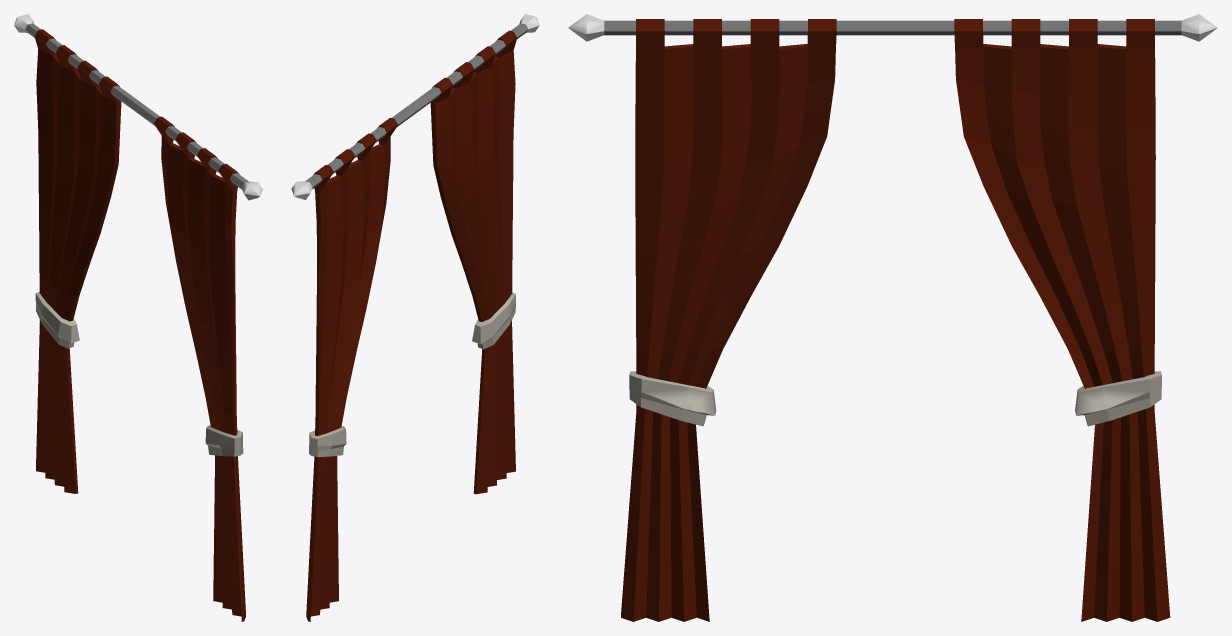
File: SM_curtains_01.glb
3 renders of one model, left to right at view 1: azimuth 30°, elevation 25°; view 2: azimuth 150°, elevation 25°; view 3: azimuth 270°, elevation 25°, orthographic. The views are drawn at different scales.
Visible parts, largest first — view 1: SM_curtains_01; view 2: SM_curtains_01; view 3: SM_curtains_01.
Part boxes in pixels (bbox=[...]): SM_curtains_01: bbox=[14, 14, 262, 621]; SM_curtains_01: bbox=[291, 14, 539, 621]; SM_curtains_01: bbox=[568, 14, 1217, 621].
Bounding box in the file's own units: 0.1373 × 2.63 × 2.59.
2 materials, 1 textured.
